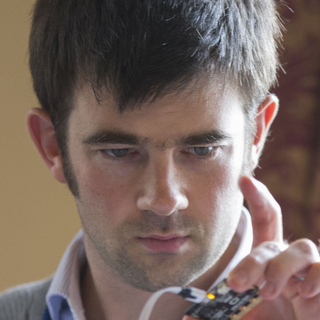eye: (93, 140, 143, 164), (174, 142, 226, 158)
